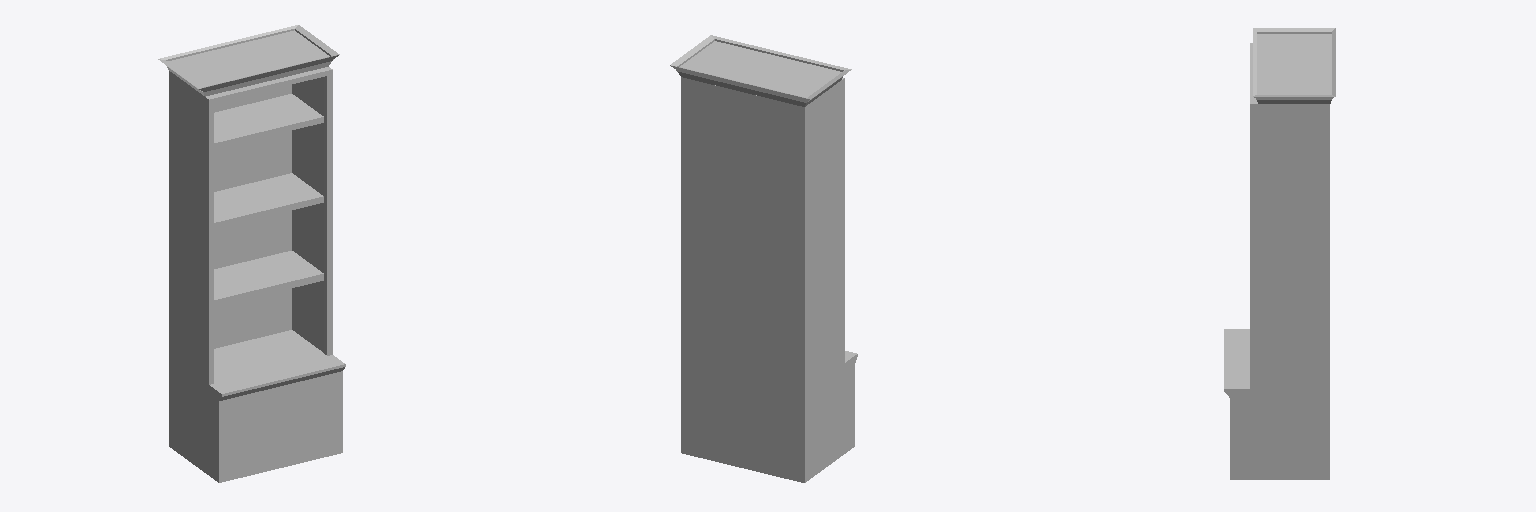
The model's file is wardrobe.obj.
The picture shows the model from 3 angles: view 1: azimuth 30°, elevation 25°; view 2: azimuth 150°, elevation 25°; view 3: azimuth 270°, elevation 25°; orthographic projection.
Parts seen in each view (by area): view 1: pCube1; view 2: pCube1; view 3: pCube1.
Boxes of the visible parts, <box> form: pCube1: <box>158,25,345,482</box>; pCube1: <box>670,35,857,482</box>; pCube1: <box>1224,28,1335,479</box>.
Bounding box in the file's own units: 5.65 × 14.83 × 3.85.